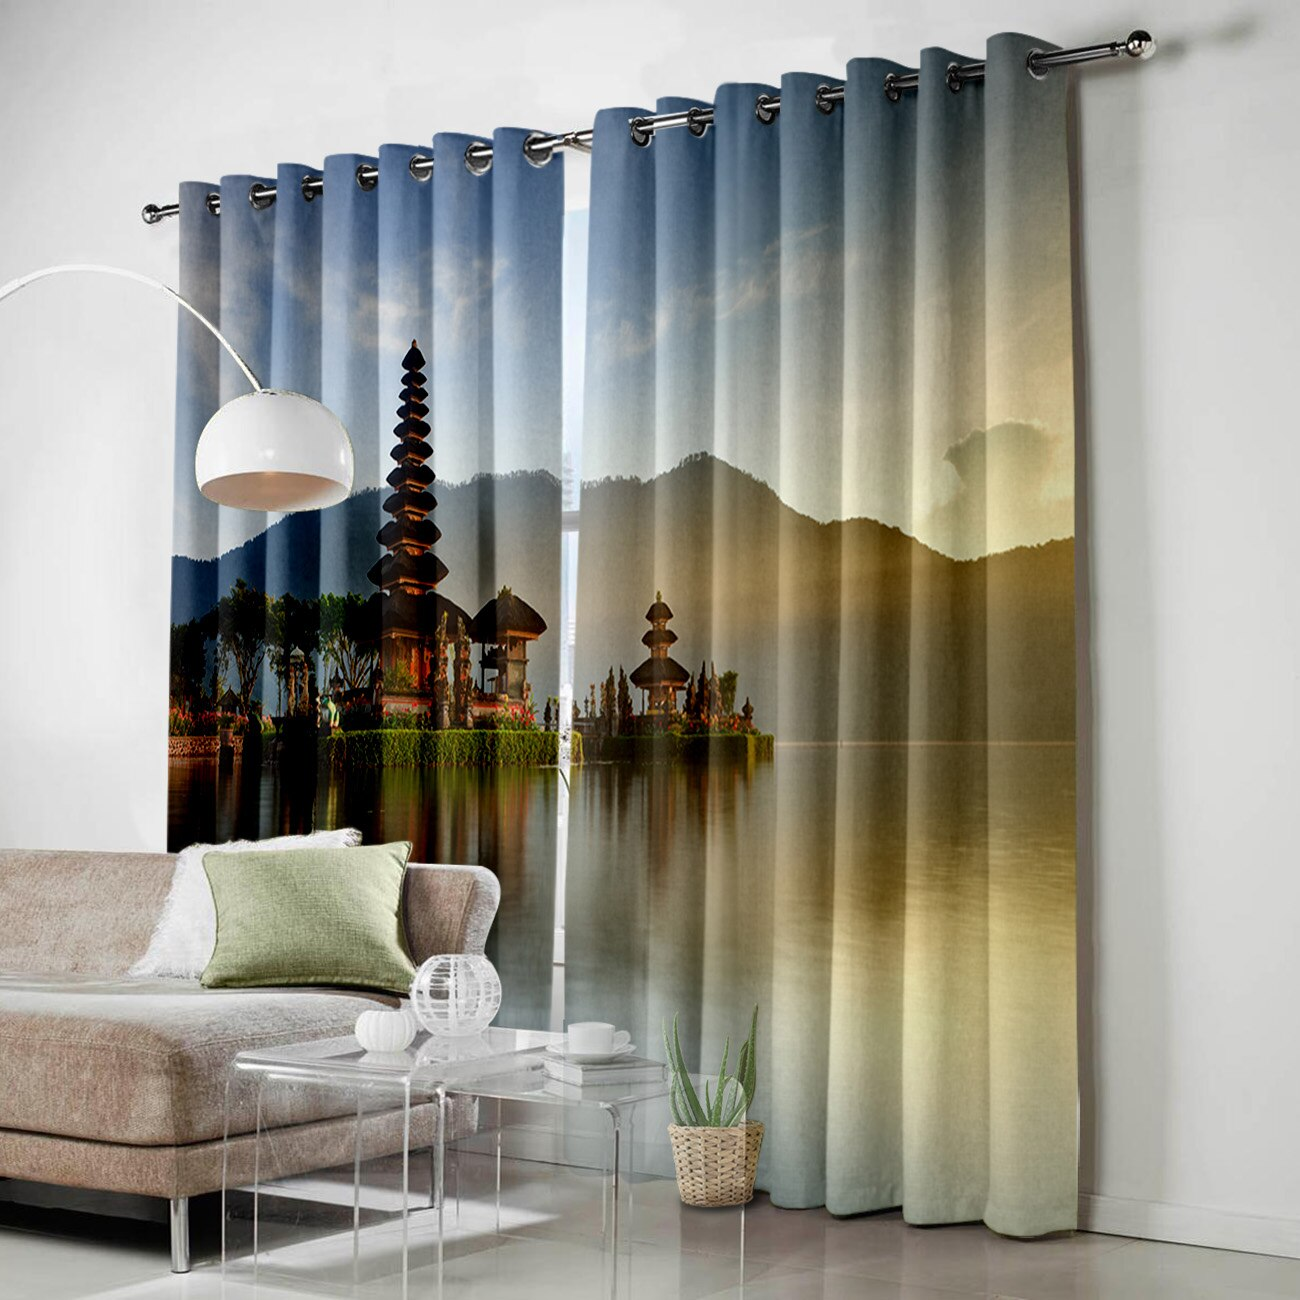bantal: (210, 848, 405, 985)
buku: (542, 1054, 671, 1088)
gelas: (546, 1011, 633, 1055), (350, 1006, 420, 1060)
lampu: (193, 369, 371, 521)
meja: (217, 1004, 754, 1290)
sova: (1, 843, 496, 1227)
tanaman: (655, 1000, 768, 1213)
